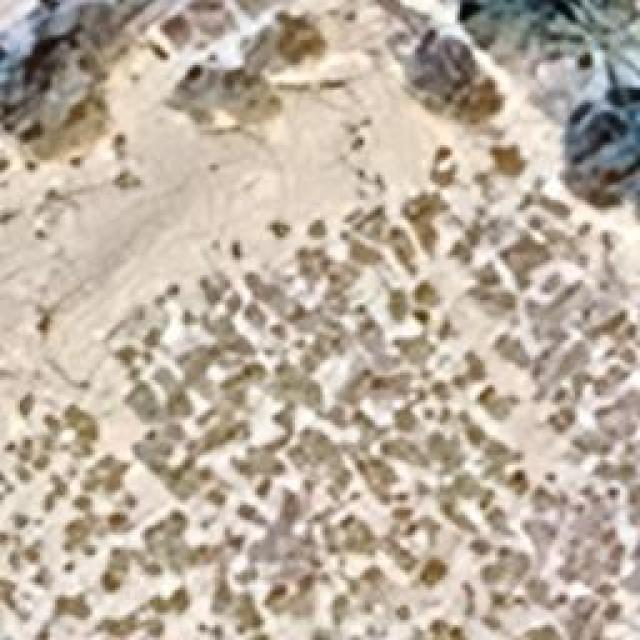PalmTree: (544, 0, 638, 95), (570, 99, 640, 179)
